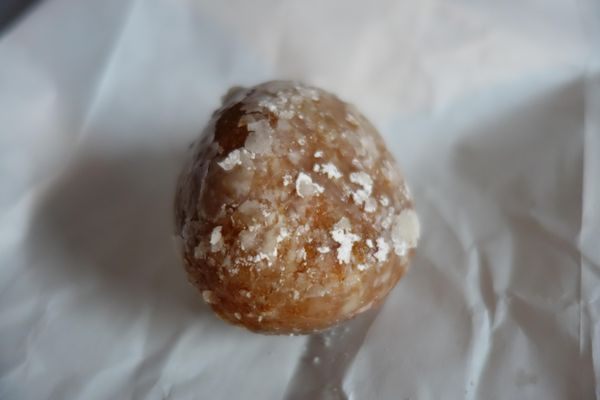salad: (175, 79, 419, 335)
